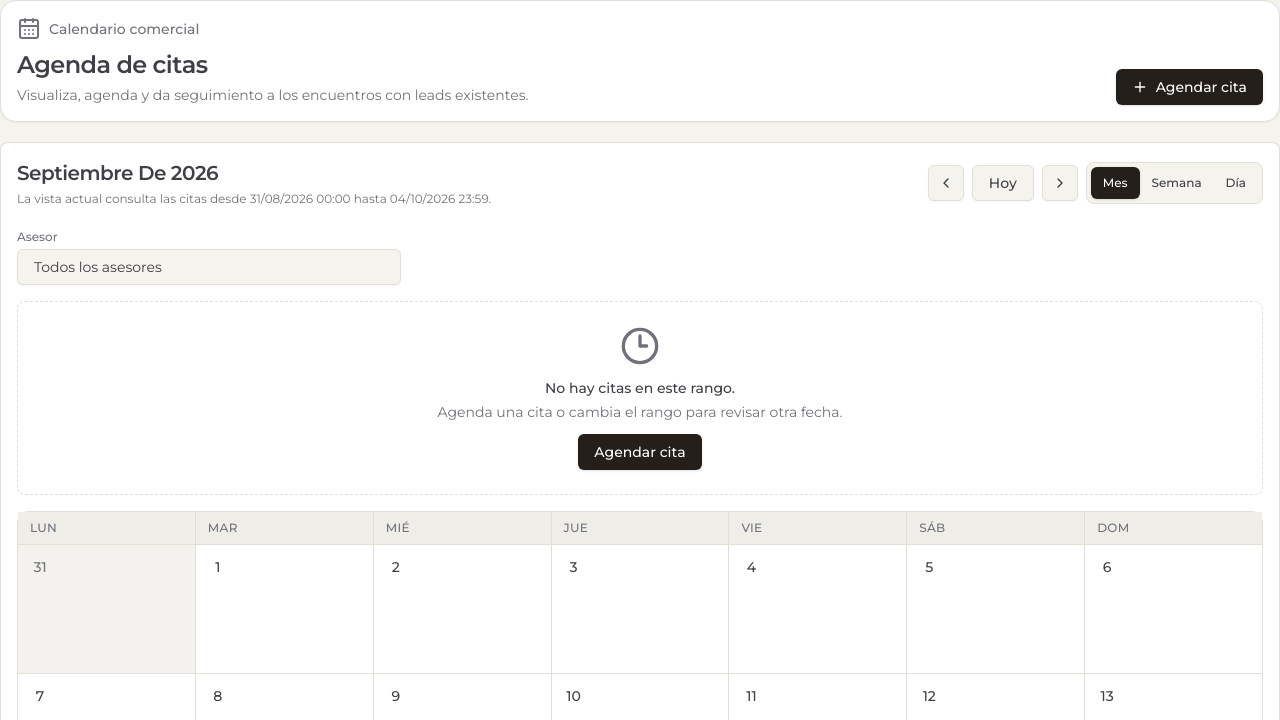
Scenario: CalendarCitasPage › muestra estado vacío en la búsqueda de clientes sin error genérico
This screenshot has width=1280, height=720.
Click the button "Agendar cita" in the row of "Agenda de citas".
click(1189, 87)  # box [1116,69,1263,105]
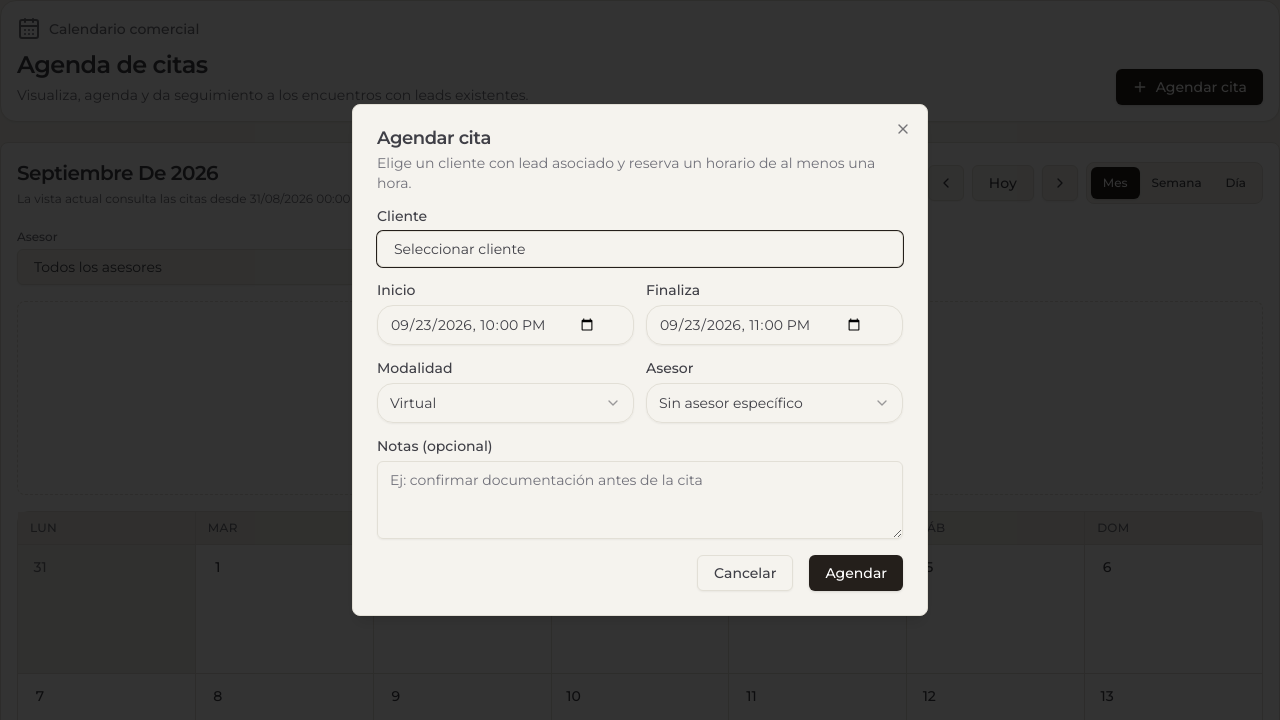
Click the dropdown named "Seleccionar cliente existente".
click(460, 249)  # box [377,231,903,267]
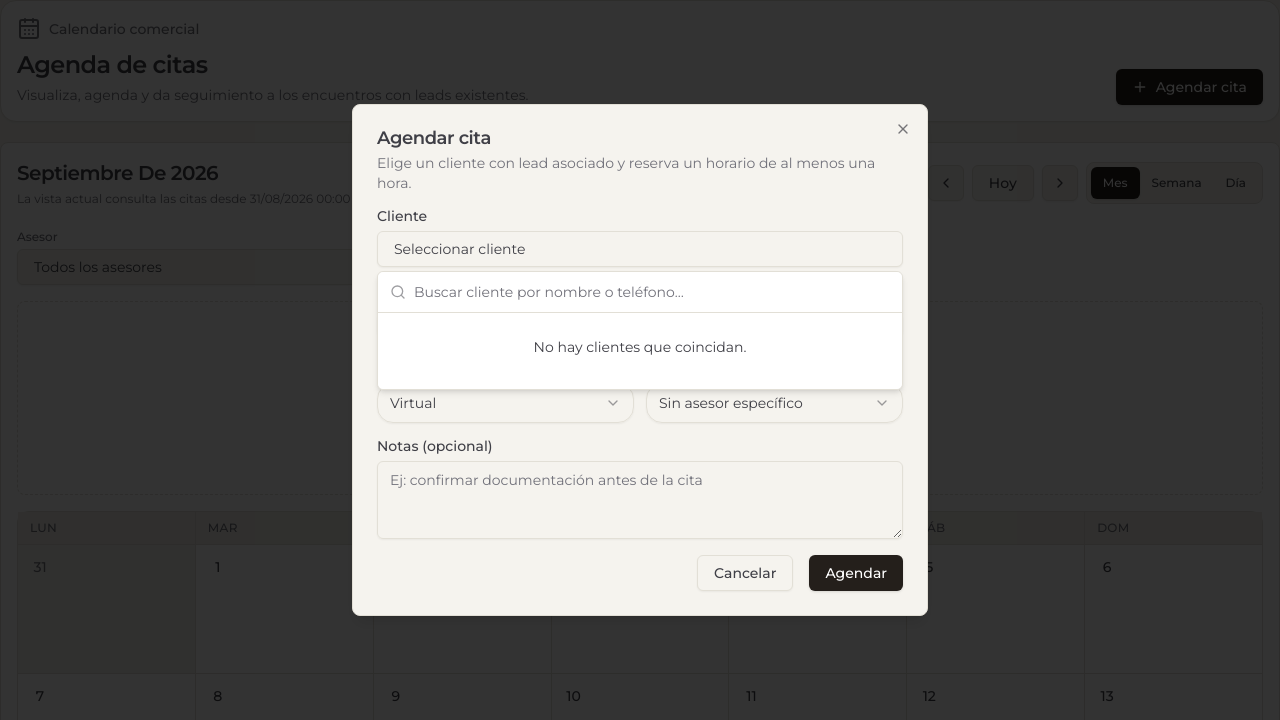
Check: the text "No hay clientes que coincidan." is shown, box [534,338,746,356]
